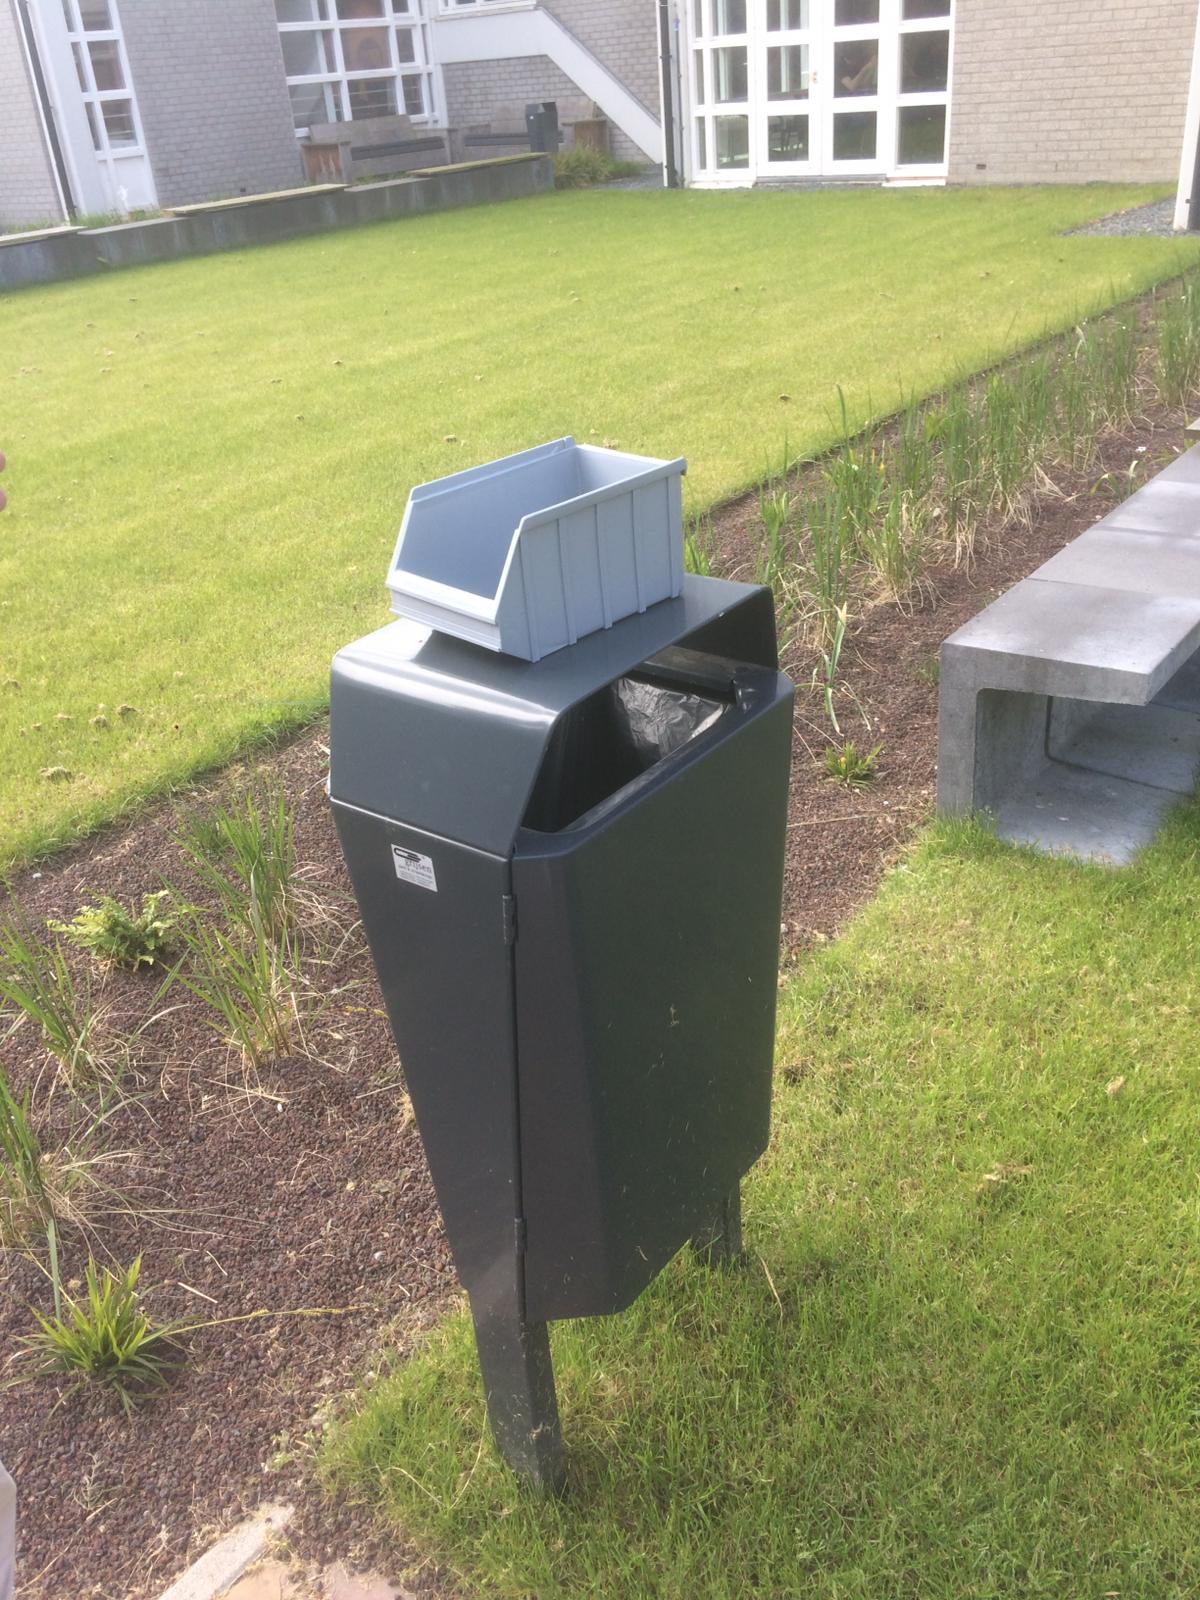tray_right: (498, 451, 700, 658)
